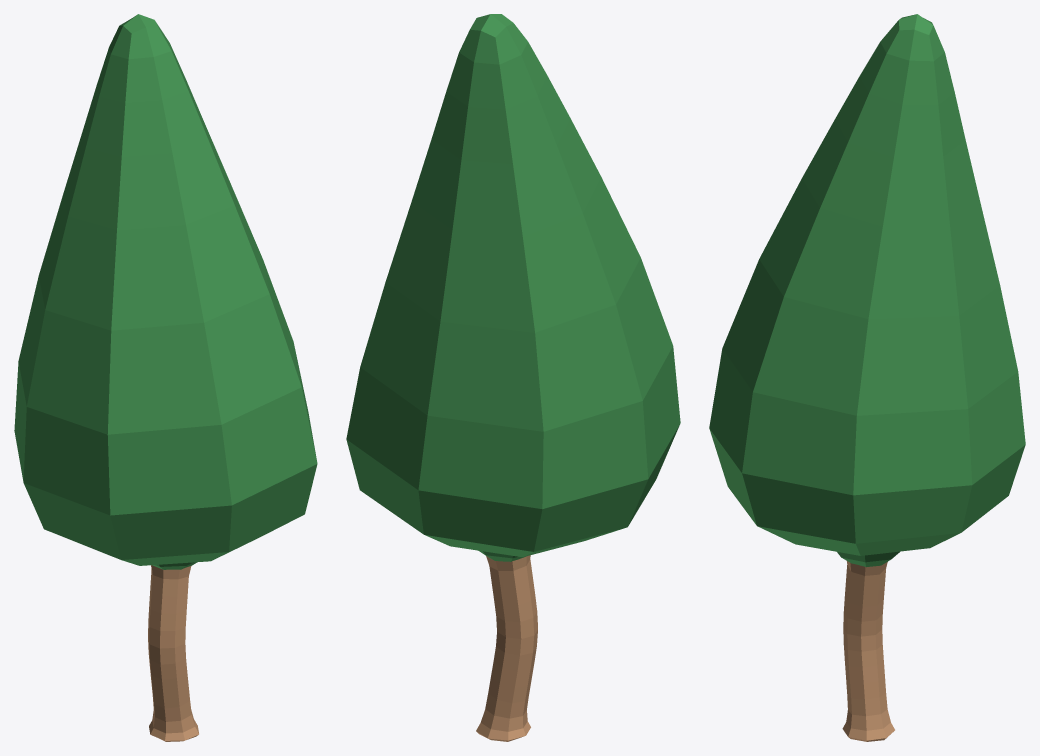
File: tree.glb
3 views of the same model, side by side, from view 1: azimuth 30°, elevation 25°; view 2: azimuth 150°, elevation 25°; view 3: azimuth 270°, elevation 25° (orthographic). The views are drawn at different scales.
Visible parts, largest first — view 1: Vert; view 2: Vert; view 3: Vert.
Boxes of the visible parts, <box> form: Vert: <box>14,14,317,741</box>; Vert: <box>346,14,680,741</box>; Vert: <box>709,14,1025,741</box>.
Size of the model in its own units: 8.67 by 21.58 by 8.67.
